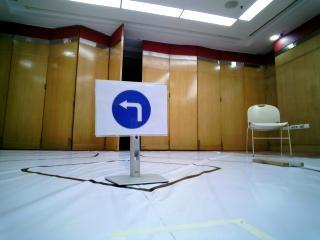left: (97, 82, 167, 136)
